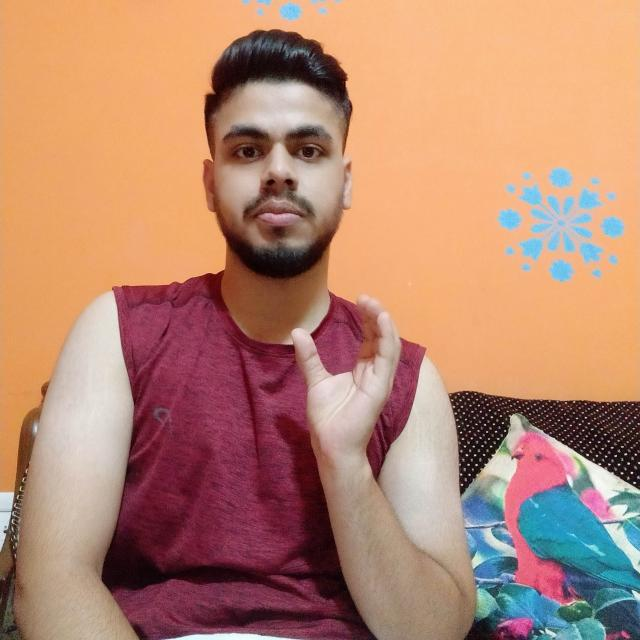U: (282, 290, 409, 460)
